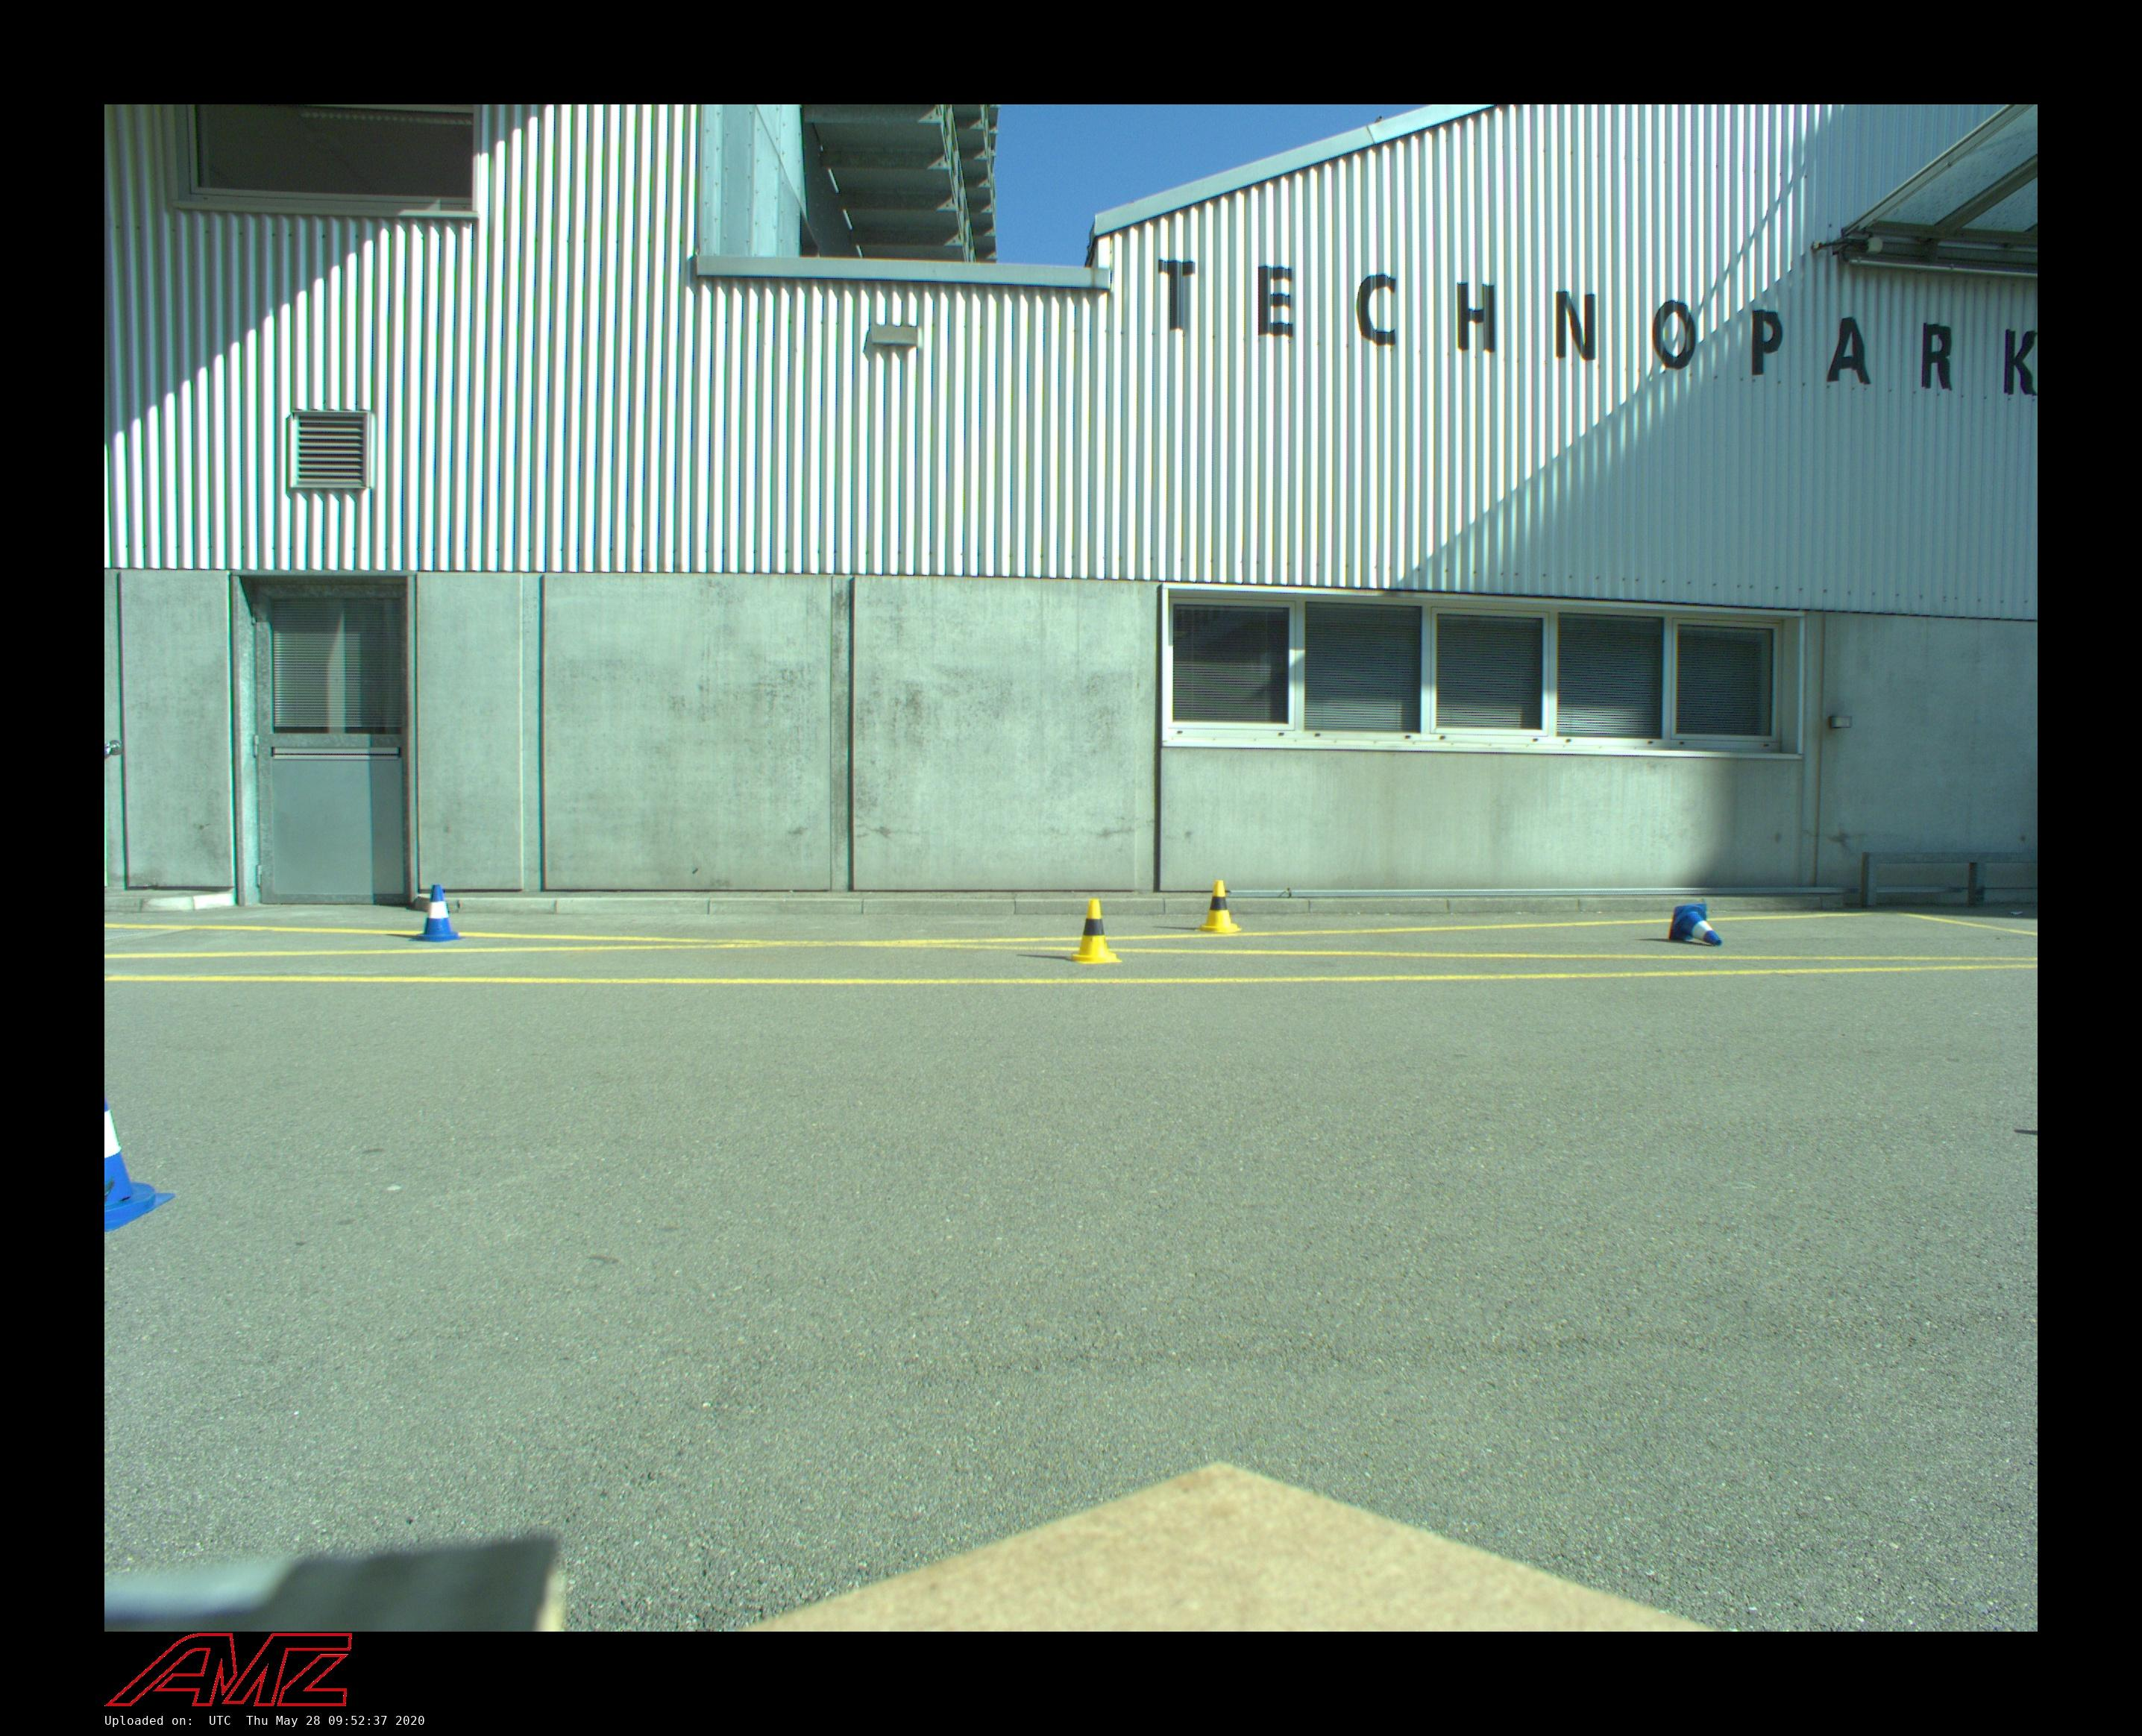blue_cone: (409, 884, 466, 942), (1669, 905, 1722, 946)
yellow_cone: (1067, 900, 1121, 964), (1194, 880, 1240, 934)
